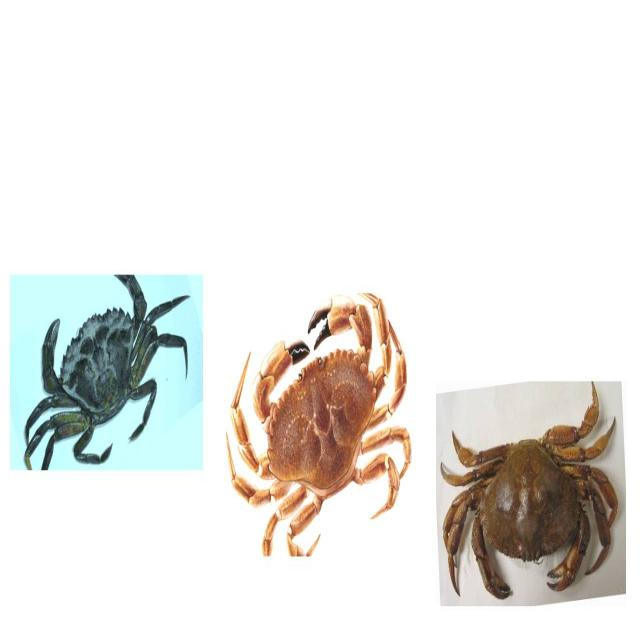egc: (2, 275, 194, 473)
jonah_crab: (223, 291, 412, 552)
rock_crab: (440, 394, 627, 598)
